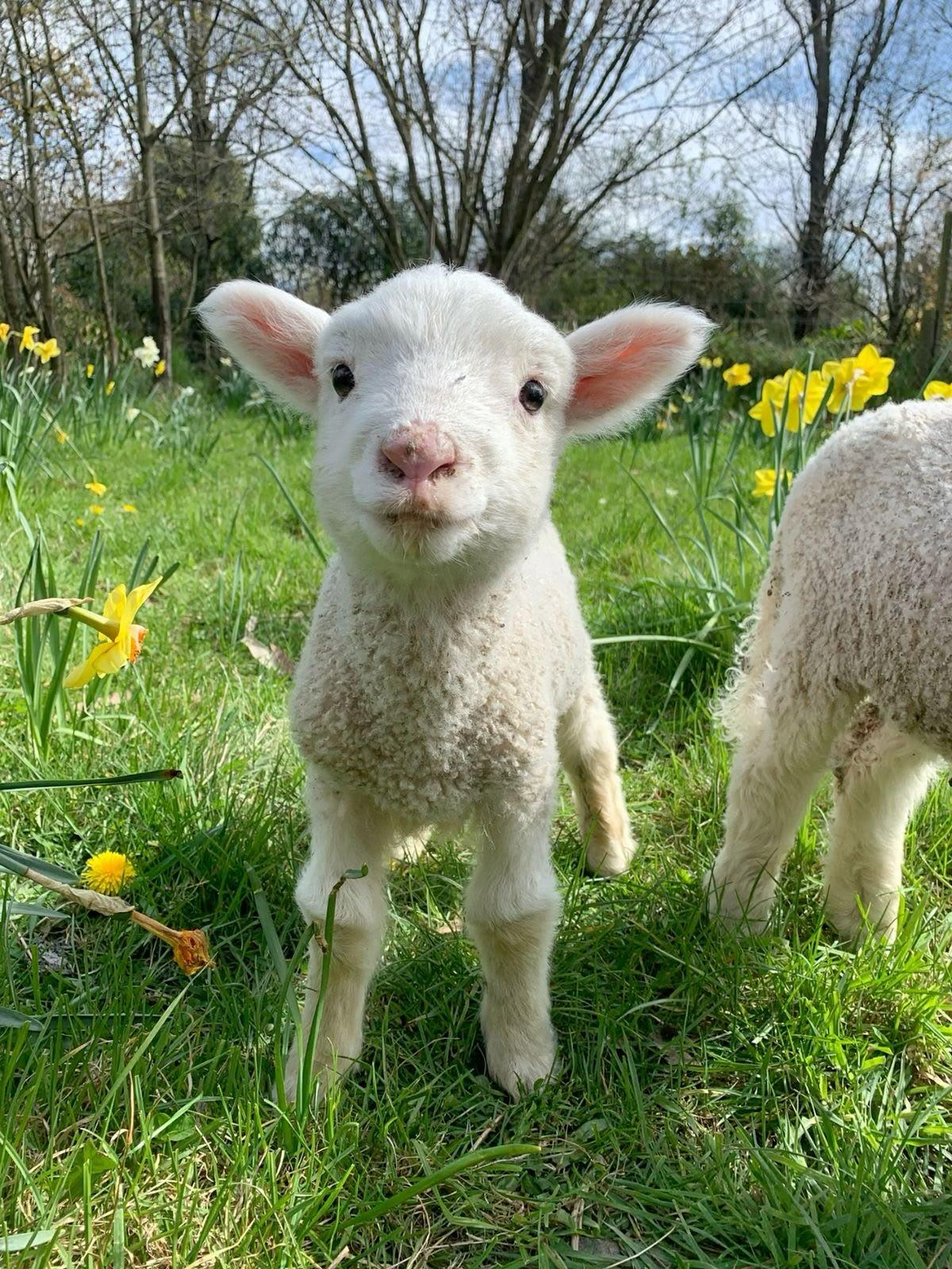sheep: (201, 265, 708, 1095), (709, 401, 951, 938)
